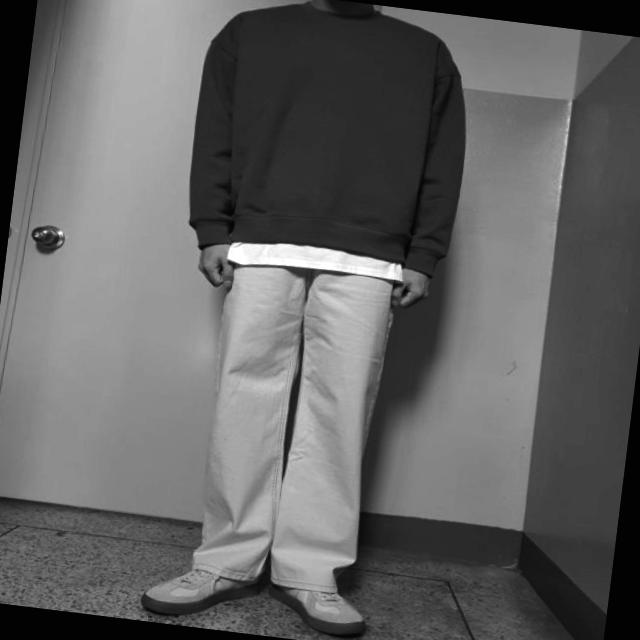cottonpants: (186, 258, 398, 596)
mtm: (180, 0, 482, 280)
